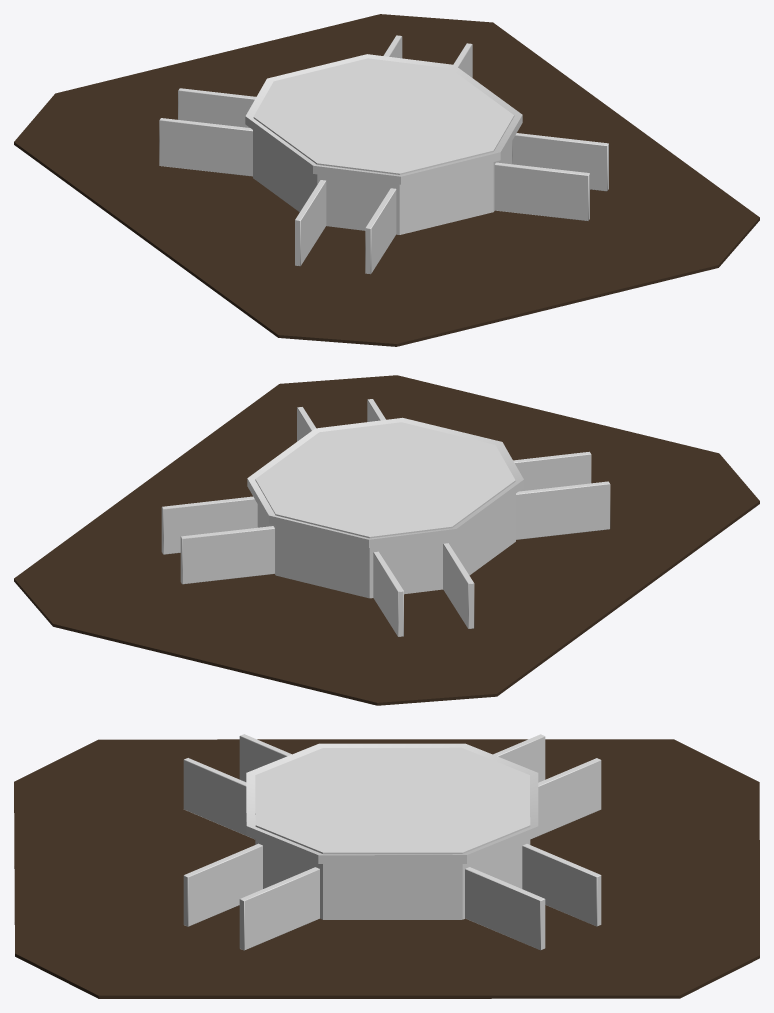
Rendered from Stage.fbx.
3 views of the same model, one above another, from view 1: azimuth 30°, elevation 25°; view 2: azimuth 150°, elevation 25°; view 3: azimuth 270°, elevation 25° (orthographic). The views are drawn at different scales.
Visible parts, largest first — view 1: Cylinder_1_4, Cylinder, Cube_2_5, Cylinder_1, Cube_2_3, Cube_1, Cube_1_3, Cube_3, Cube_2, Cube_2_2, Cube_1_2; view 2: Cylinder_1_4, Cylinder, Cube, Cylinder_1, Cube_2_4, Cube_1_2, Cube_1_4, Cube_3, Cube_2_2, Cube_1, Cube_2; view 3: Cylinder_1_4, Cylinder, Cube_3_2, Cylinder_1, Cube_1_3, Cube_1_4, Cube_2_3, Cube_2_4, Cube_2_2, Cube_2, Cube_2_5, Cube (+2 smaller).
Boxes of the visible parts, x1=… form: Cylinder_1_4: x1=14, y1=14, x2=759, y2=346; Cylinder: x1=253, y1=58, x2=514, y2=174; Cube_2_5: x1=317, y1=141, x2=512, y2=234; Cylinder_1: x1=245, y1=54, x2=522, y2=184; Cube_2_3: x1=494, y1=162, x2=589, y2=220; Cube_1: x1=159, y1=118, x2=252, y2=176; Cube_1_3: x1=512, y1=133, x2=608, y2=191; Cube_3: x1=255, y1=132, x2=316, y2=212; Cube_2: x1=178, y1=88, x2=256, y2=127; Cube_2_2: x1=365, y1=188, x2=396, y2=274; Cube_1_2: x1=295, y1=180, x2=326, y2=266; Cylinder_1_4: x1=14, y1=375, x2=759, y2=705; Cylinder: x1=255, y1=422, x2=515, y2=538; Cube: x1=257, y1=504, x2=454, y2=598; Cylinder_1: x1=247, y1=417, x2=523, y2=547; Cube_2_4: x1=180, y1=526, x2=274, y2=584; Cube_1_2: x1=516, y1=481, x2=610, y2=539; Cube_1_4: x1=161, y1=496, x2=257, y2=554; Cube_3: x1=454, y1=494, x2=515, y2=575; Cube_2_2: x1=513, y1=451, x2=591, y2=491; Cube_1: x1=443, y1=543, x2=474, y2=628; Cube_2: x1=373, y1=551, x2=403, y2=636; Cylinder_1_4: x1=14, y1=739, x2=759, y2=998; Cylinder: x1=255, y1=747, x2=530, y2=854; Cube_3_2: x1=328, y1=864, x2=461, y2=919; Cylinder_1: x1=246, y1=743, x2=538, y2=863; Cube_1_3: x1=239, y1=867, x2=319, y2=950; Cube_1_4: x1=465, y1=867, x2=545, y2=950; Cube_2_3: x1=183, y1=843, x2=262, y2=926; Cube_2_4: x1=522, y1=844, x2=601, y2=926; Cube_2_2: x1=183, y1=758, x2=255, y2=839; Cube_2: x1=530, y1=758, x2=601, y2=839; Cube_2_5: x1=255, y1=838, x2=328, y2=919; Cube: x1=462, y1=838, x2=530, y2=919.
Size of the model in its own units: 3833 by 543 by 4712.
